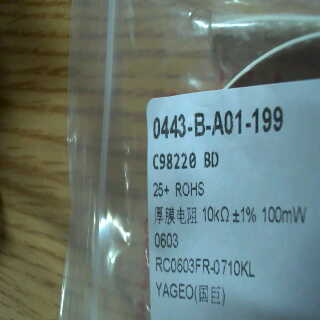10kR: (199, 203, 231, 226)
